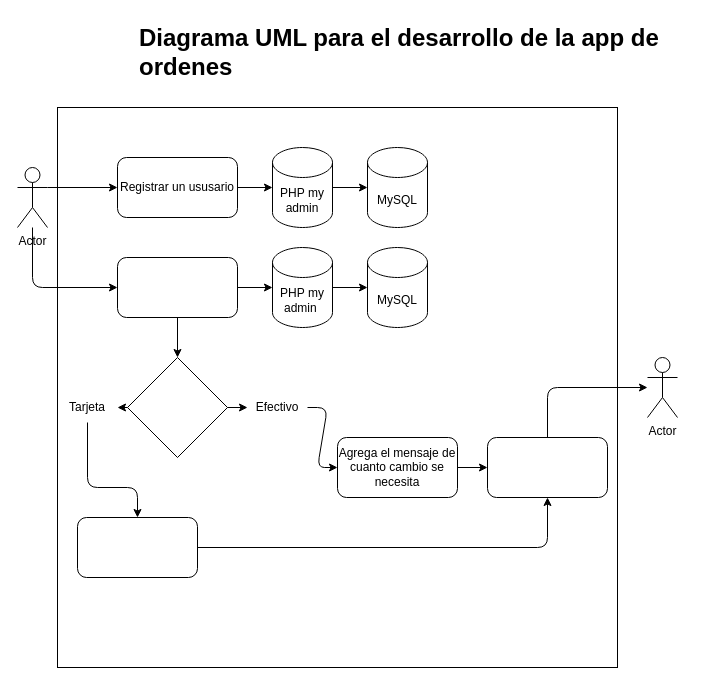
Some shapes in this 715 by 685 pixel diagram are drawn without their labels. The centre of each missing label's shape, as x and y in pixels:
Efectivo o tarjeta: the point at 177,407
Procesa la orden y se le da formato: the point at 547,467
Realizar una orden: the point at 177,287
Uso de api: the point at 137,547
